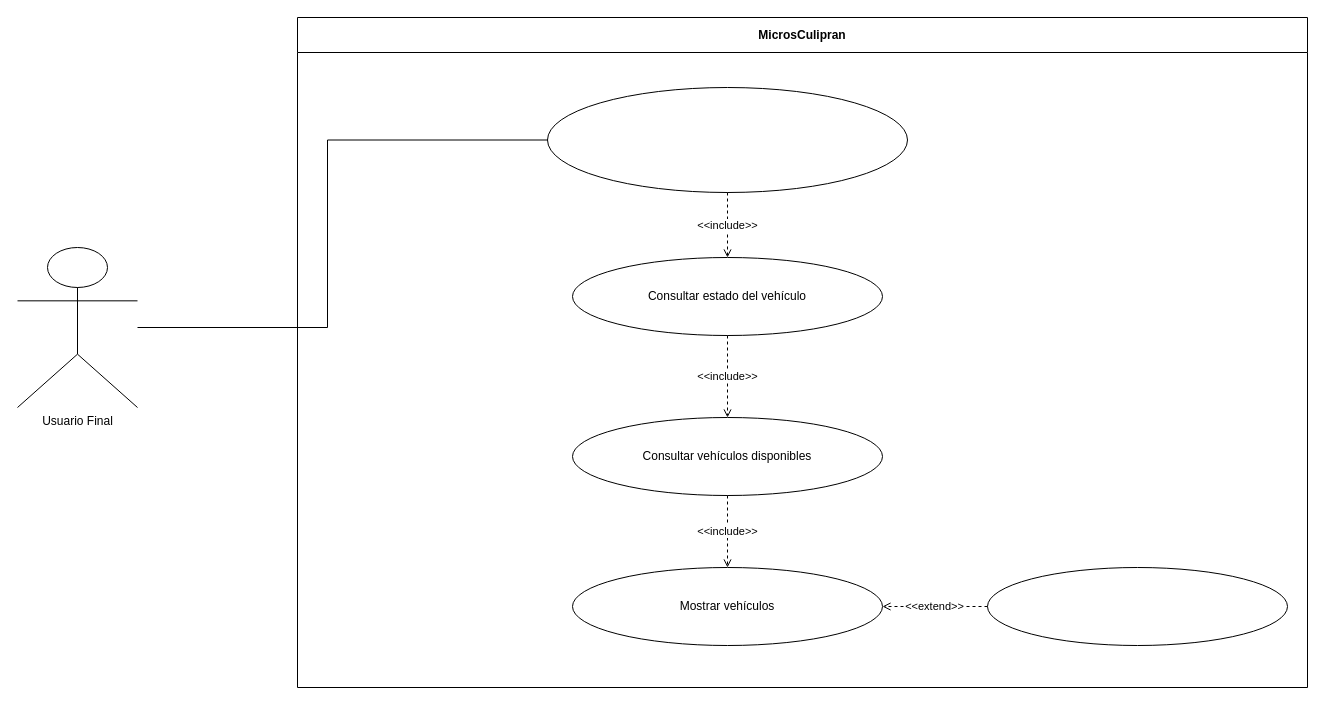
This 1325x705 diagram has some shape labels left out. Here are the shapes that lost their labels. From the top down, the centre of each, then its label:
At point 727,139: "CU-01 Visualizar vehículos".
At point 1137,606: "Informar sin vehículos disponibles".
